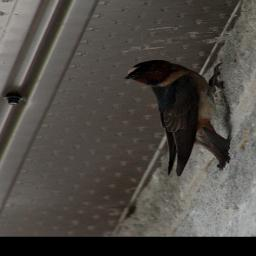Swallow: (124, 59, 234, 177)
